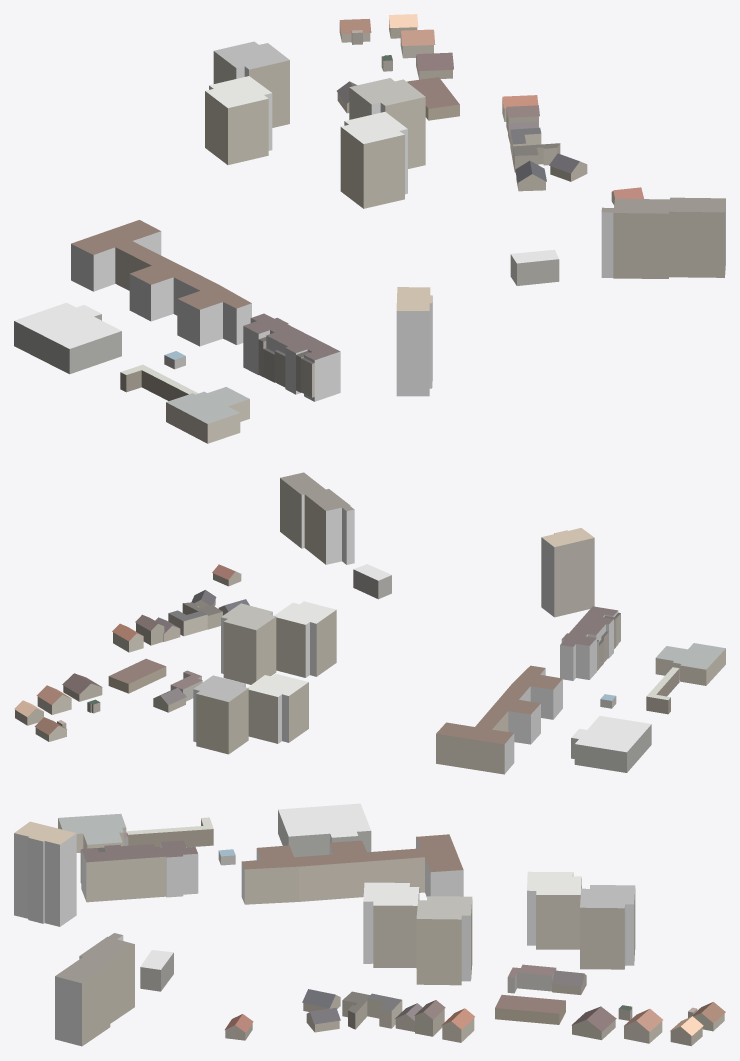
The picture shows the model from 3 angles, top to bottom: view 1: azimuth 30°, elevation 25°; view 2: azimuth 150°, elevation 25°; view 3: azimuth 270°, elevation 25°; orthographic projection. The views are drawn at different scales.
Visible parts, largest first — view 1: tuile; view 2: tuile; view 3: tuile.
Part boxes in pixels (<box>): tuile: <box>14,14,725,443</box>; tuile: <box>14,472,725,774</box>; tuile: <box>14,803,725,1046</box>.
Bounding box in the file's own units: 234 × 46.95 × 261.
